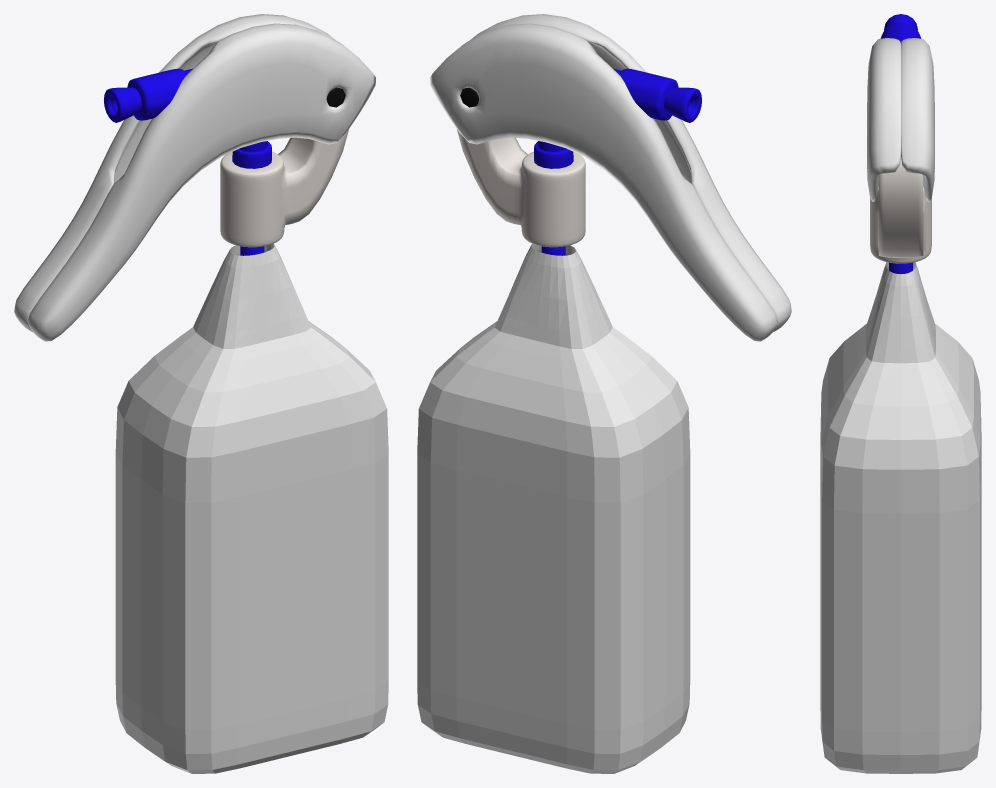
The model's file is DetolGun2LowPolyPolished.fbx.
The picture shows the model from 3 angles, left to right: view 1: azimuth 30°, elevation 25°; view 2: azimuth 150°, elevation 25°; view 3: azimuth 270°, elevation 25°; orthographic projection. The views are drawn at different scales.
Parts seen in each view (by area): view 1: Cube, Circle, Cylinder.003, Cylinder.001; view 2: Cube, Circle, Cylinder.003, Cylinder.001; view 3: Cube, Circle, Cylinder.003, Cylinder.001.
Part boxes in pixels (x1,y1,x2,y2): Cube: (115,244,388,773); Circle: (14,14,375,341); Cylinder.003: (220,129,348,247); Cylinder.001: (104,68,271,168); Cube: (417,244,690,773); Circle: (430,14,791,341); Cylinder.003: (457,129,585,247); Cylinder.001: (534,68,701,168); Cube: (820,262,981,773); Circle: (867,38,934,201); Cylinder.003: (870,157,931,263); Cylinder.001: (880,14,921,42).
Bounding box in the file's own units: 300 × 592 × 128.
